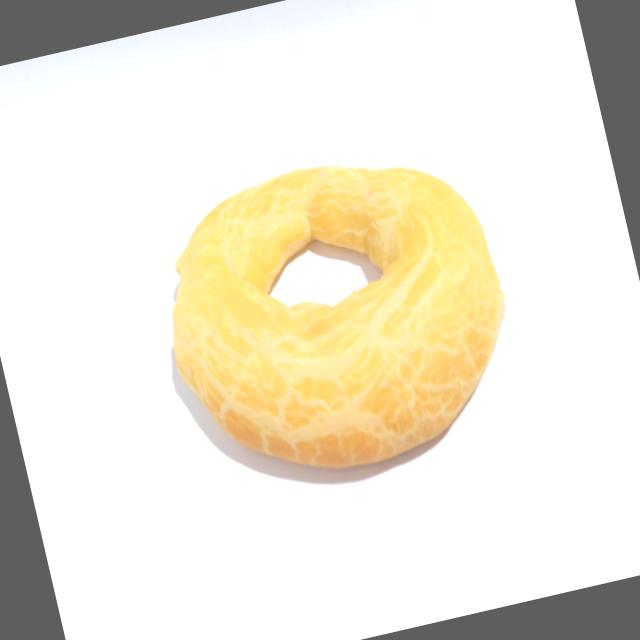Chipa: (126, 117, 544, 525)
